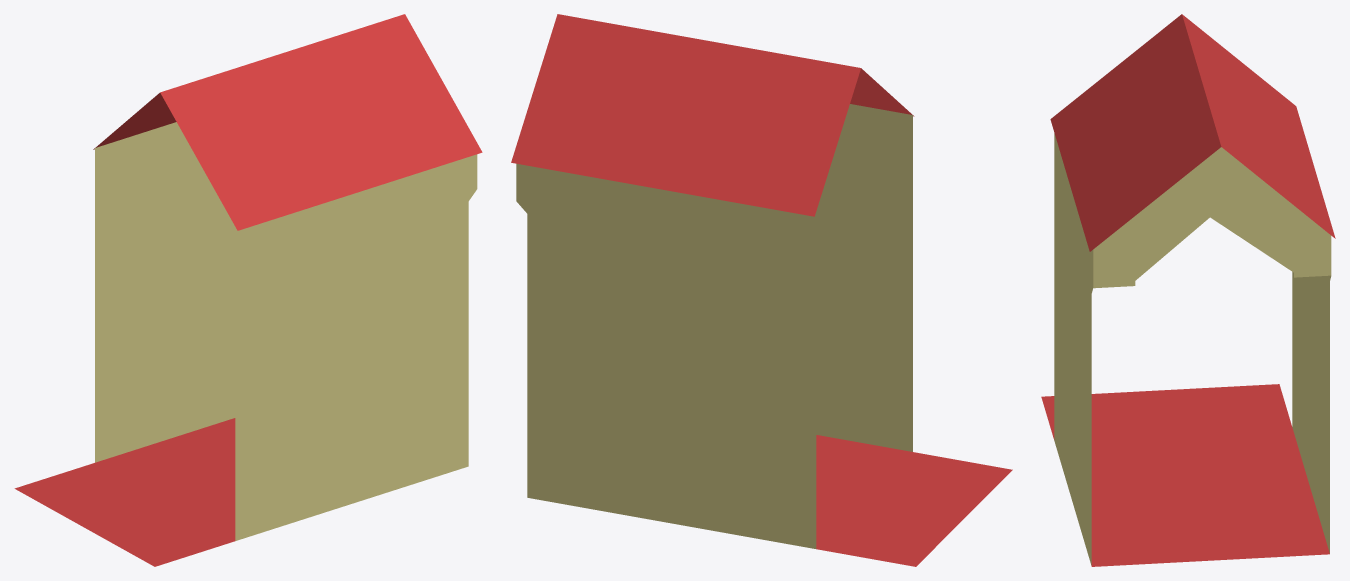
3 views of the same model, side by side, from view 1: azimuth 30°, elevation 25°; view 2: azimuth 150°, elevation 25°; view 3: azimuth 270°, elevation 25° (orthographic). The views are drawn at different scales.
Bounding box in the file's own units: 29.14 × 19.14 × 30.09.
